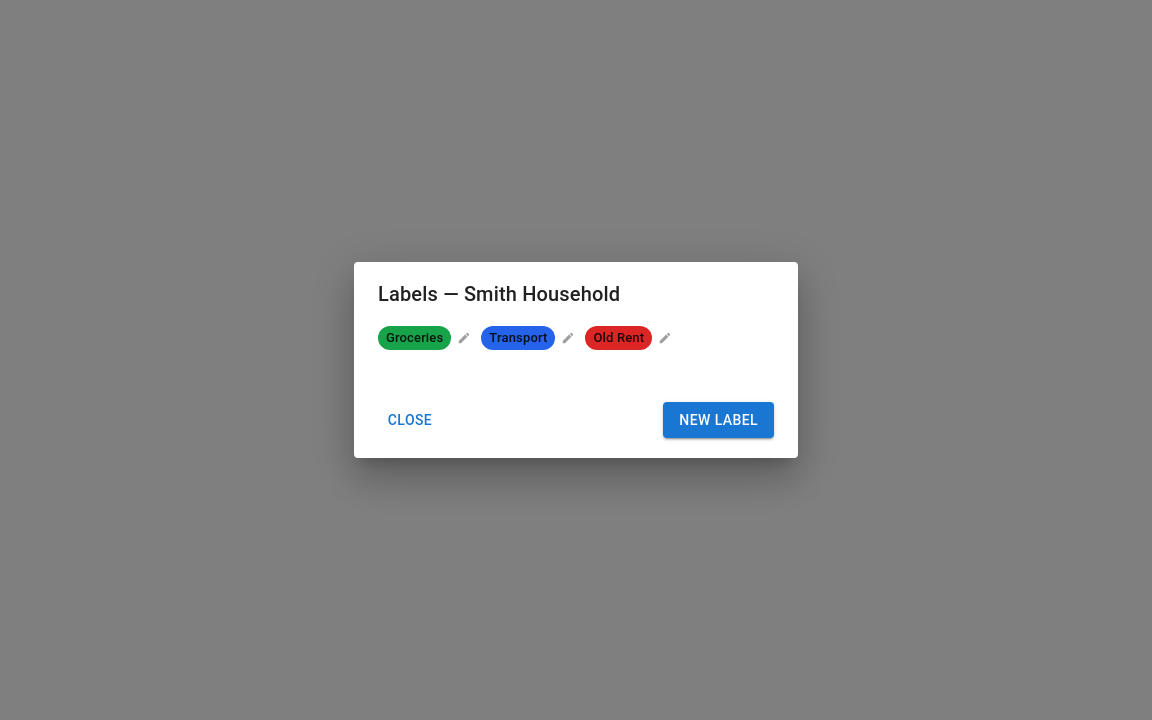
LabelManagementDialog edit › returns to list mode after successful edit
Expected: the text "Groceries" is shown, [386,330,443,345]
Step 1. Click the button named "edit groceries" → point(464, 338), box [455,329,473,347]
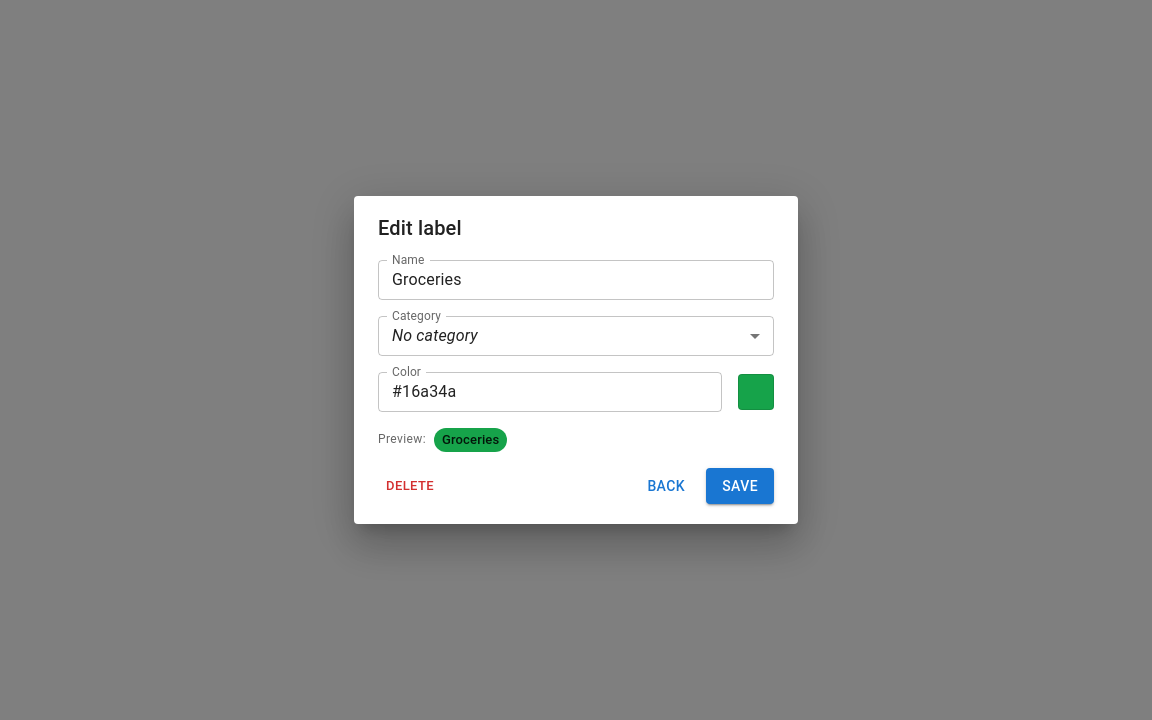
Step 2. Replace the text in the field labelled "Name" with "Food" → point(576, 280), box [378,260,774,300]
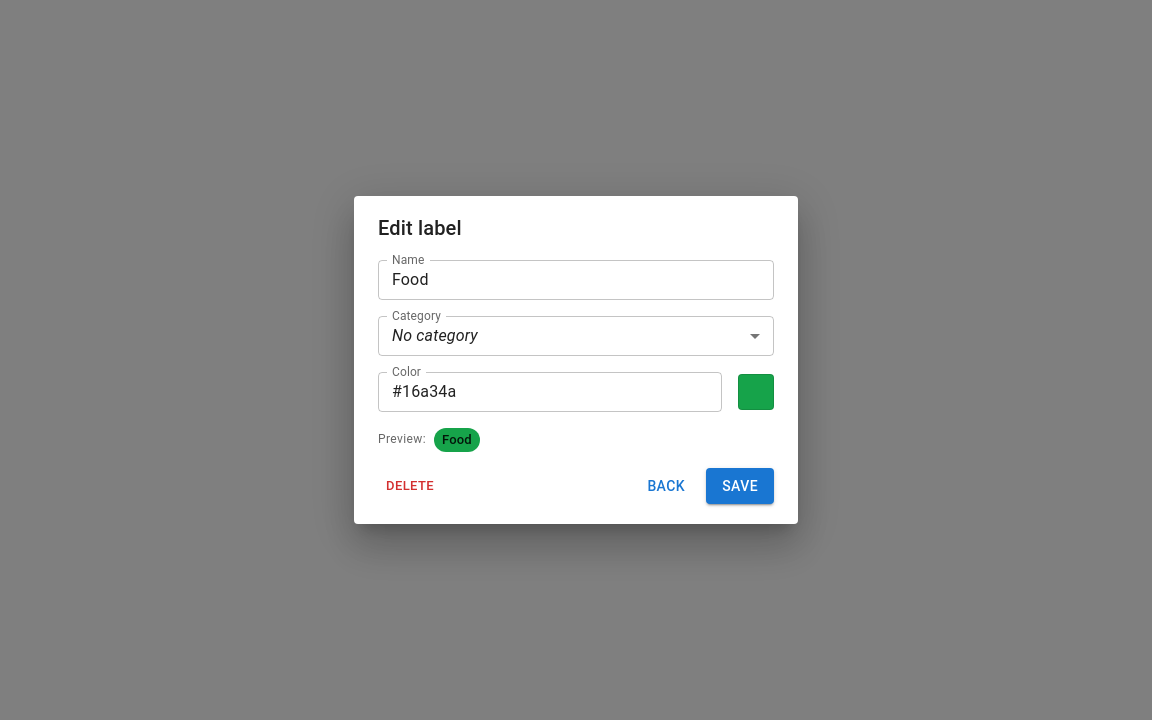
Step 3. Click the button "Save" → point(740, 486), box [706,468,774,504]
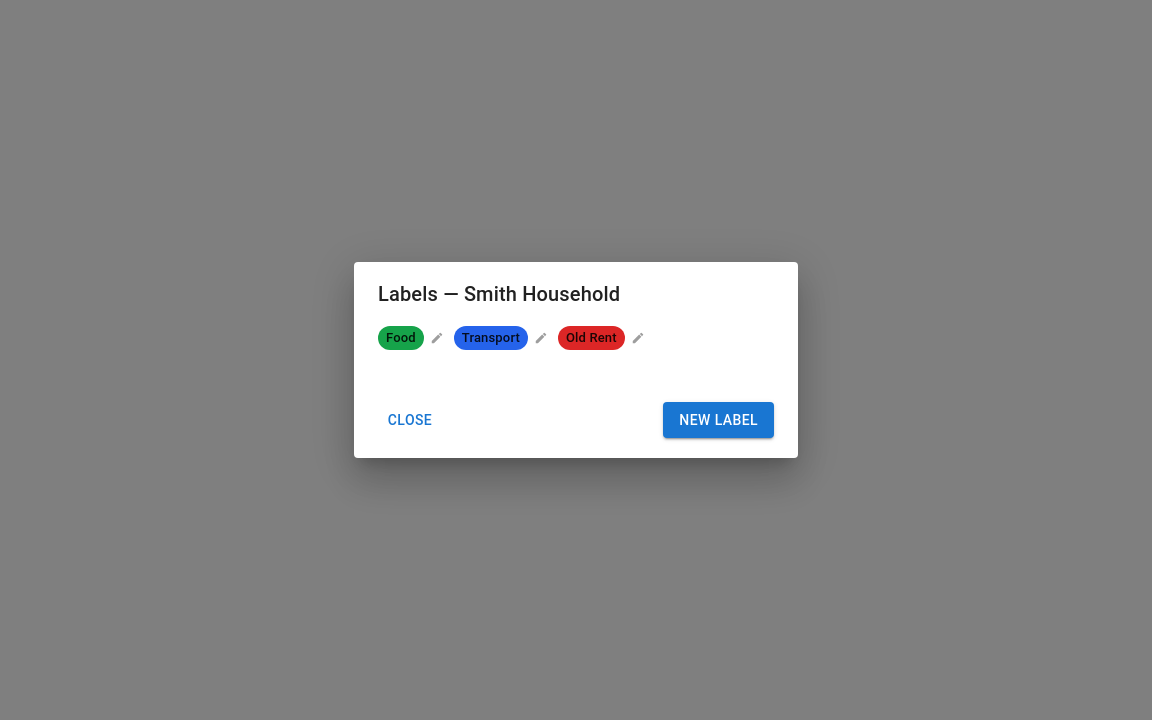
Now the button "New label" is shown, box [663,402,774,438]
